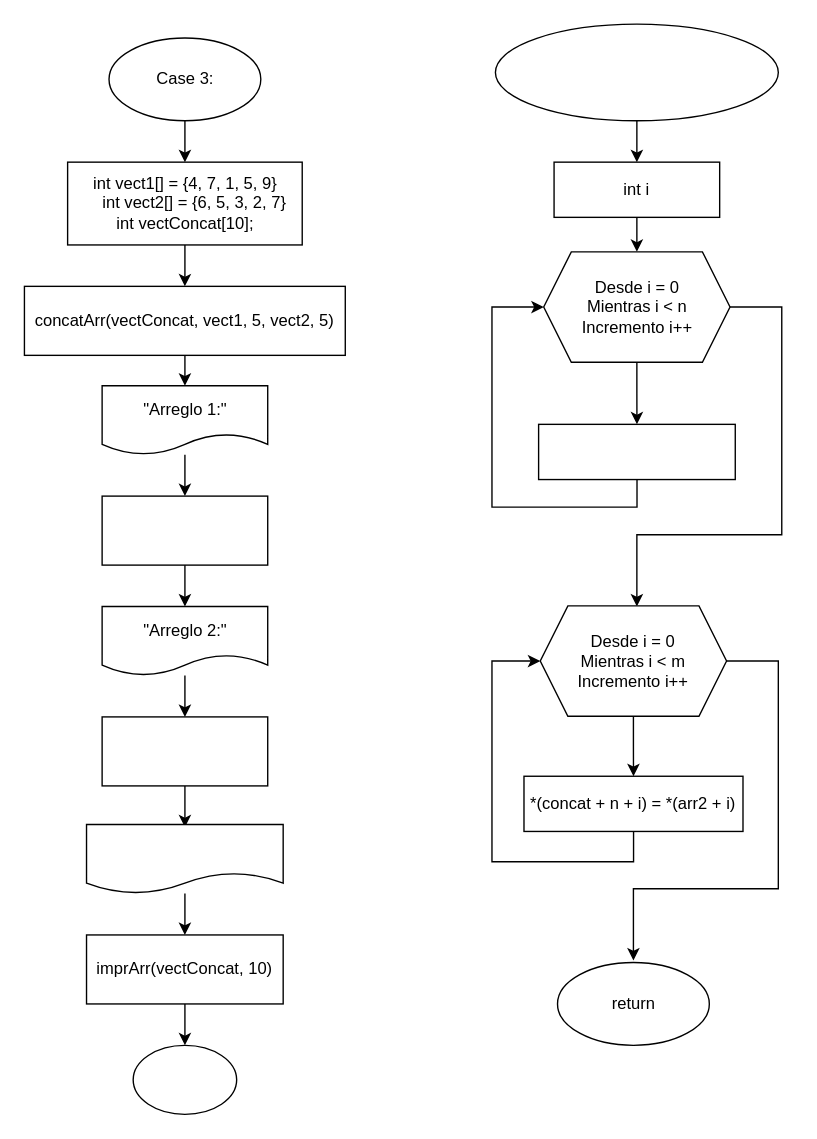
This 817x1139 diagram has some shape labels left out. Each missing label, with the centre of its shape:
"Arreglo concatenado:": point (184, 858)
*(concat + i) = *(arr1 + i): point (636, 451)
break: point (184, 1079)
concatArr(int *concat, int *arr1, int n, int *arr2, int m): point (636, 72)
imprArr(vect1, 5): point (184, 530)
imprArr(vect2, 5): point (184, 751)
